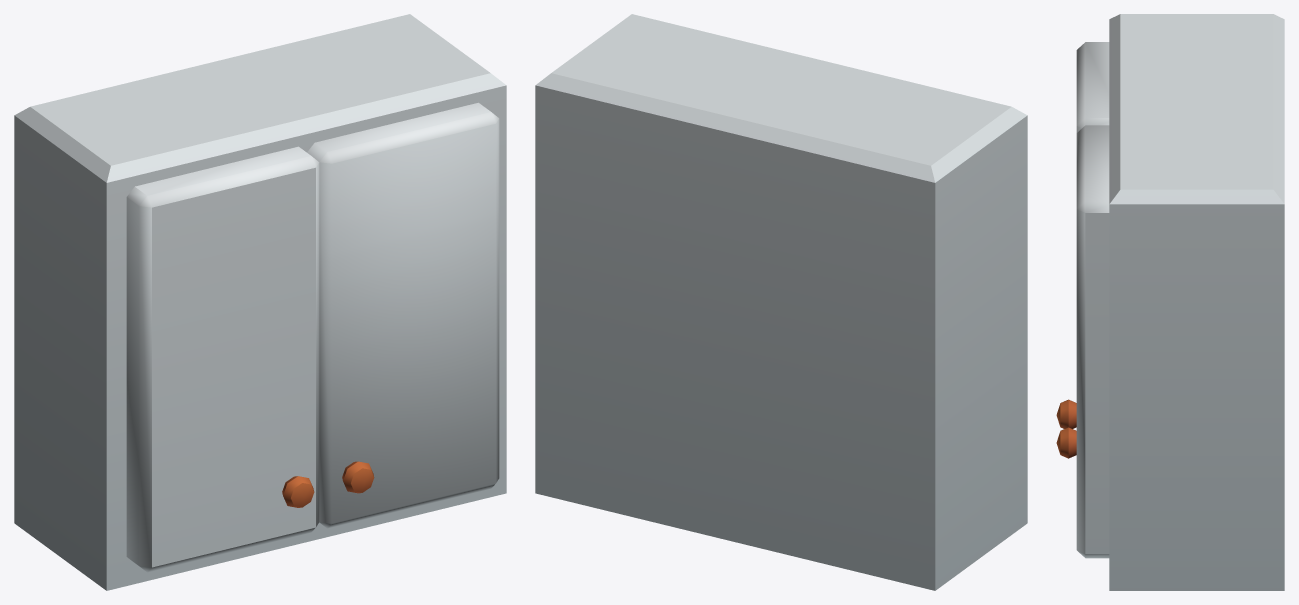
The model's file is kitchencabinet.obj.
The picture shows the model from 3 angles, left to right: view 1: azimuth 30°, elevation 25°; view 2: azimuth 150°, elevation 25°; view 3: azimuth 270°, elevation 25°; orthographic projection. The views are drawn at different scales.
Parts seen in each view (by area): view 1: kitchencabinet_Cube.220; view 2: kitchencabinet_Cube.220; view 3: kitchencabinet_Cube.220.
Part boxes in pixels (left/top/right/bottom): kitchencabinet_Cube.220: left=14, top=14, right=506, bottom=590; kitchencabinet_Cube.220: left=535, top=14, right=1027, bottom=590; kitchencabinet_Cube.220: left=1056, top=14, right=1284, bottom=590.
Size of the model in its own units: 2 by 2 by 1.04.
1 material, 1 textured.
